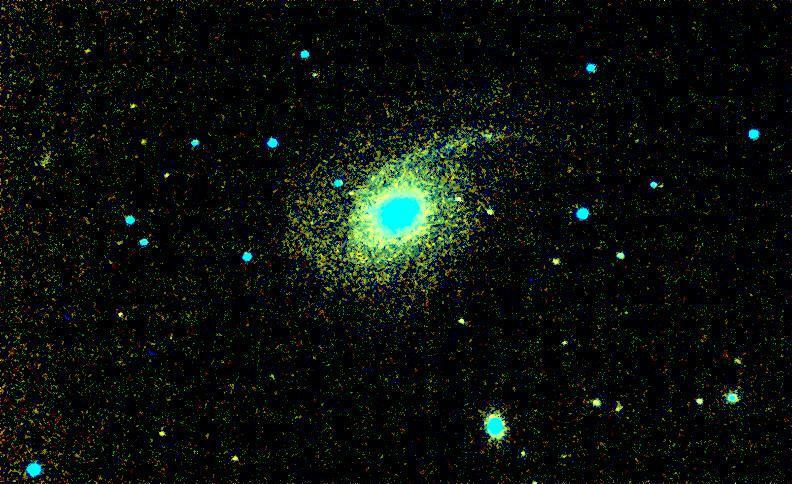star: (75, 30, 105, 60)
